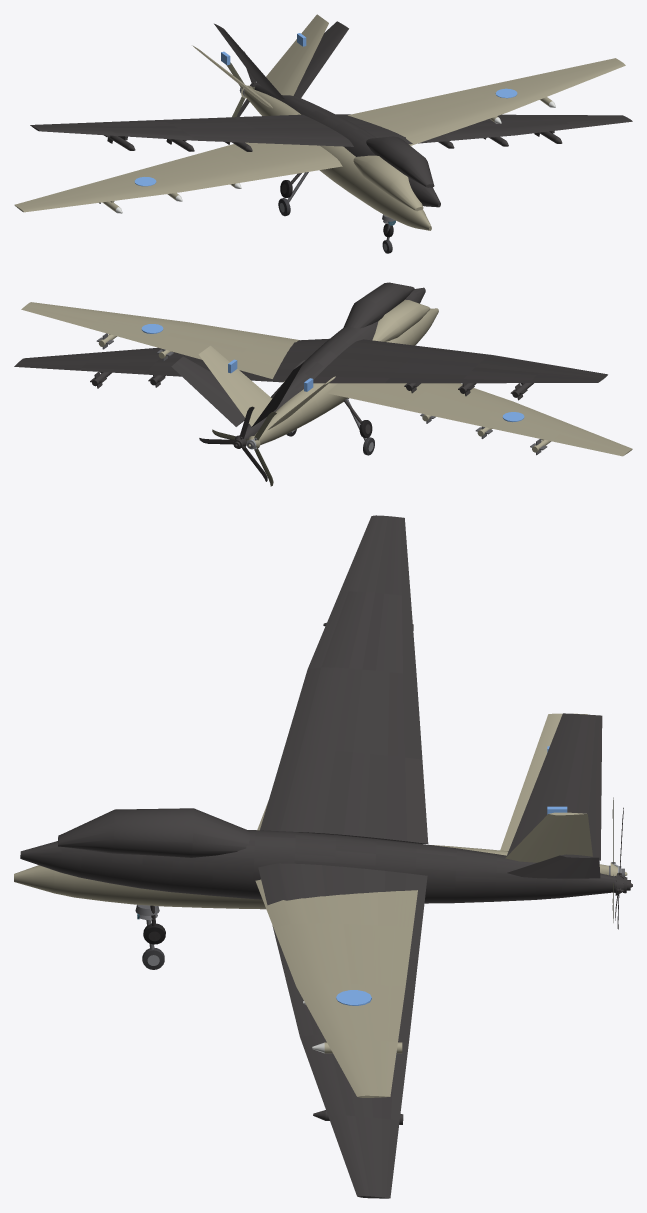
Rendered from drone__wing_loong_ii_akinci.glb.
3 views of the same model, one above another, from view 1: azimuth 30°, elevation 25°; view 2: azimuth 150°, elevation 25°; view 3: azimuth 270°, elevation 25° (orthographic). The views are drawn at different scales.
Parts seen in each view (by area): view 1: Fuselage_Mesh, Wreck; view 2: Fuselage_Mesh, Wreck, Propeller_Mesh; view 3: Wreck, Fuselage_Mesh.
Boxes of the visible parts, x1,y1,x2,y2 form: Fuselage_Mesh: (14, 14, 625, 253); Wreck: (30, 21, 632, 237); Fuselage_Mesh: (21, 299, 632, 456); Wreck: (14, 282, 607, 481); Propeller_Mesh: (212, 412, 276, 486); Wreck: (20, 515, 632, 1198); Fuselage_Mesh: (14, 713, 608, 1097).
Size of what is drawn, in the model's own units: 20.74 by 4.61 by 11.21.
